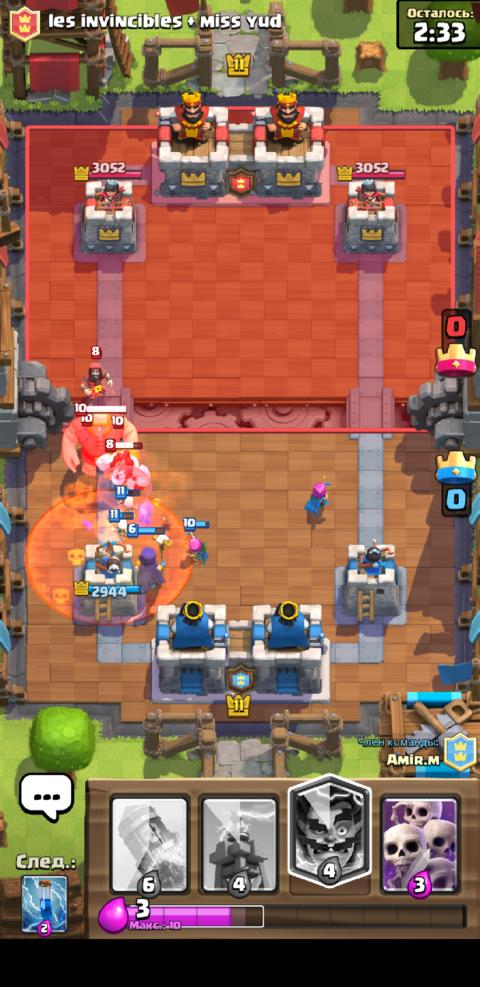ally_archer: (302, 473, 335, 519), (181, 516, 210, 566)
ally_skeleton: (108, 508, 134, 542), (114, 485, 140, 511)
ally_witch: (124, 522, 171, 588)
enemy_giant: (59, 402, 138, 476)
enemy_ice_golem: (95, 437, 150, 491)
enemy_wizard: (78, 345, 113, 401)
